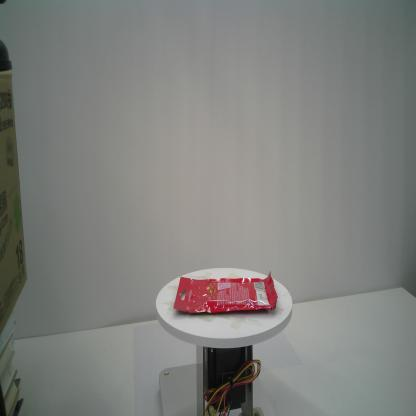Candy: (172, 270, 278, 314)
